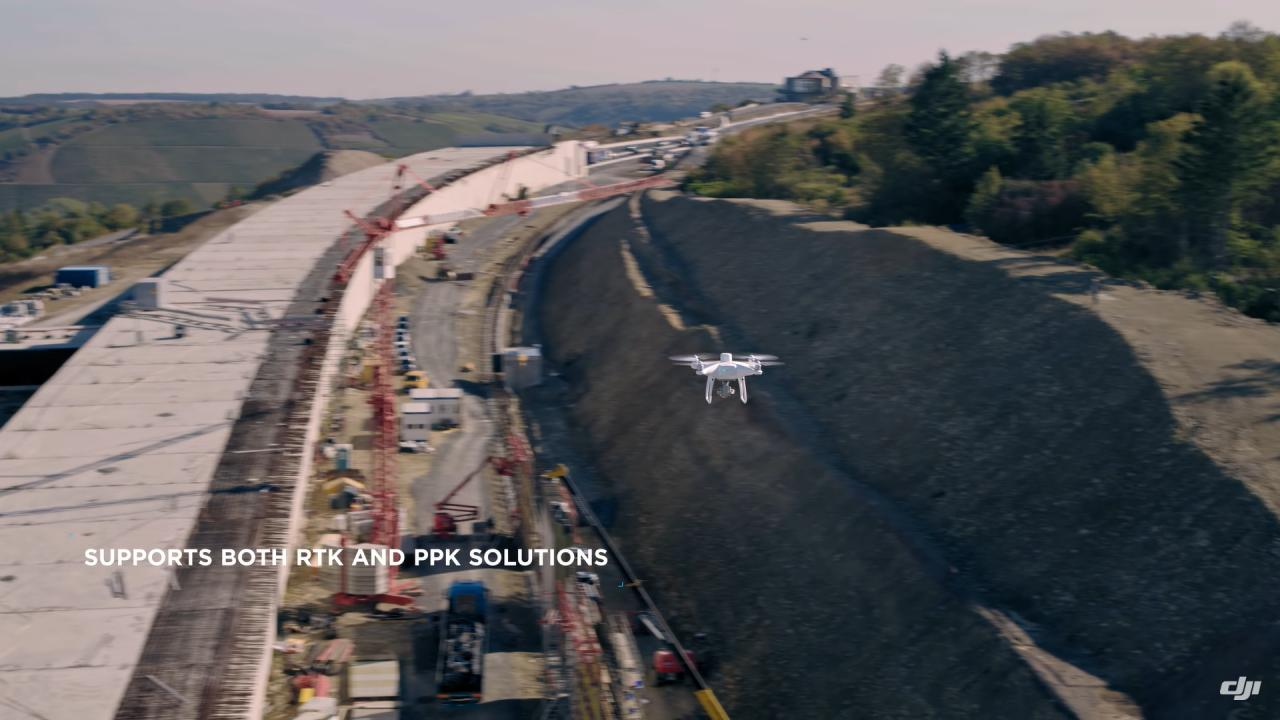Drone: (657, 341, 793, 414)
